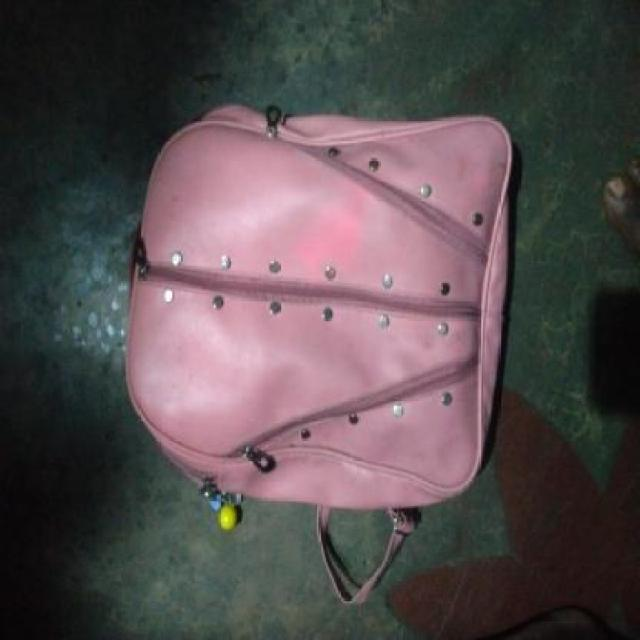backpack: (118, 96, 524, 610)
